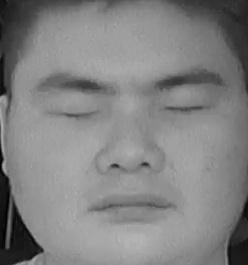blink: (50, 96, 101, 127), (161, 93, 207, 125)
mouth: (80, 180, 179, 227)
